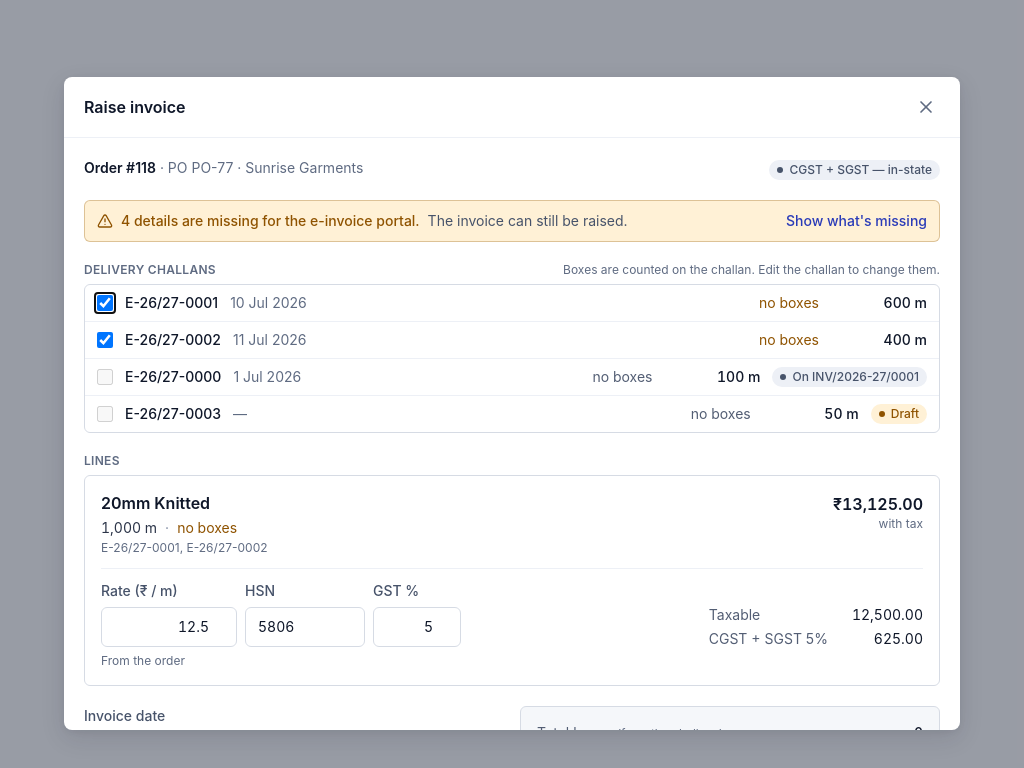
Test: raising an invoice › folds a long list of what the portal will refuse, grouped by where to fix it
Expected: the text "4 details are missing for the e-invoice portal." is shown, [121,212,420,229]
Click the button "Show what's missing" at (856, 221), box [786,211,927,231]
(page scrolled)
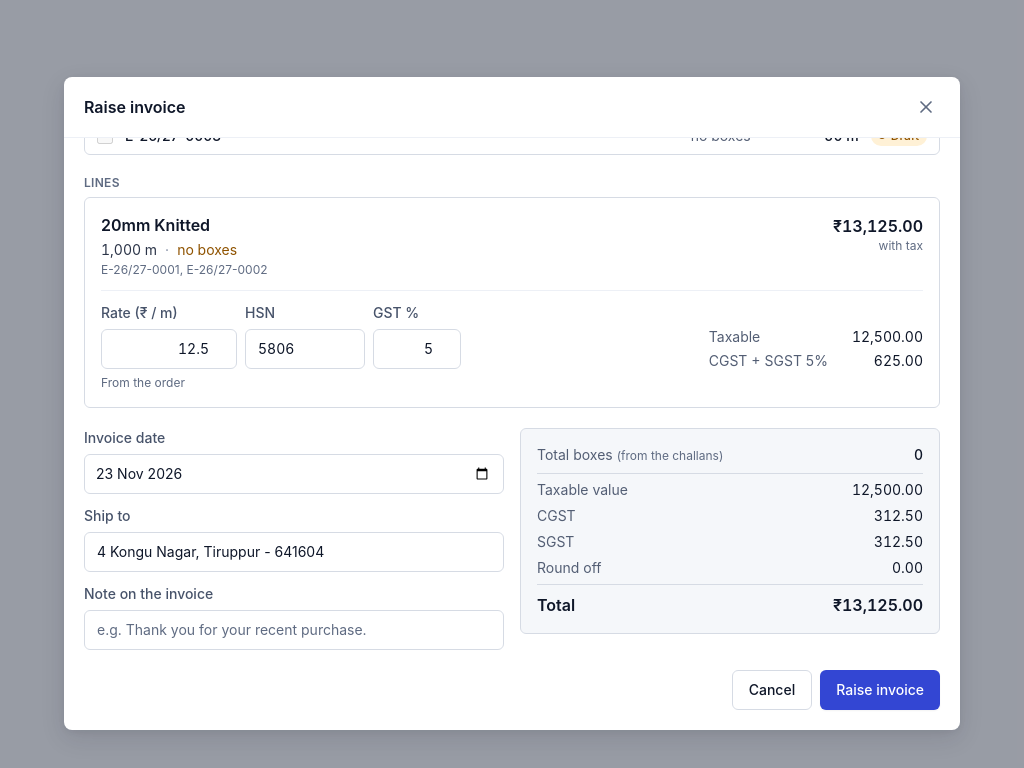
Now the button "Raise invoice" is enabled, box [820,670,940,710]
